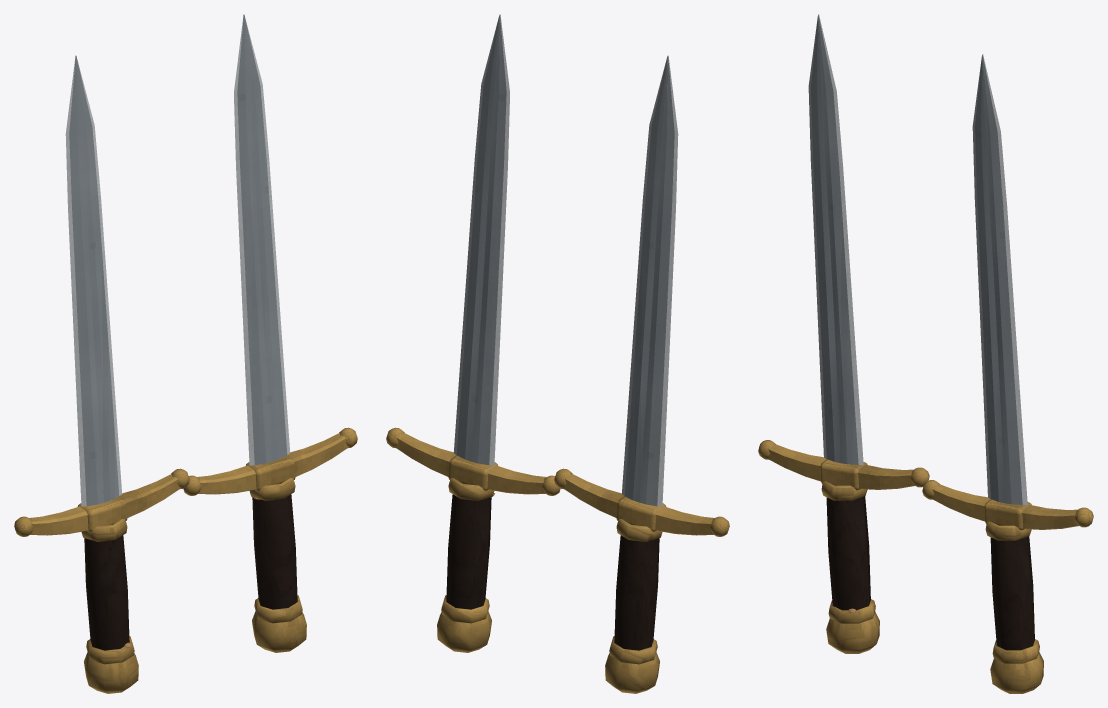
File: twin-shortblade.lod2.glb
3 renders of one model, left to right at view 1: azimuth 30°, elevation 25°; view 2: azimuth 150°, elevation 25°; view 3: azimuth 330°, elevation 25°, orthographic. The views are drawn at different scales.
Visible parts, largest first — view 1: steel / forged blade steel, brass / polished brass furniture, leather / oiled leather wrap, edge / honed bright bevel; view 2: steel / forged blade steel, brass / polished brass furniture, leather / oiled leather wrap, edge / honed bright bevel; view 3: steel / forged blade steel, brass / polished brass furniture, leather / oiled leather wrap, edge / honed bright bevel.
Boxes of the visible parts, x1,y1,x2,y2 form: steel / forged blade steel: [69, 14, 287, 506]; brass / polished brass furniture: [14, 427, 357, 693]; leather / oiled leather wrap: [84, 494, 297, 650]; edge / honed bright bevel: [65, 14, 290, 506]; steel / forged blade steel: [456, 14, 674, 506]; brass / polished brass furniture: [386, 427, 729, 693]; leather / oiled leather wrap: [446, 494, 659, 650]; edge / honed bright bevel: [453, 14, 678, 506]; steel / forged blade steel: [811, 14, 1022, 504]; brass / polished brass furniture: [758, 440, 1093, 693]; leather / oiled leather wrap: [826, 496, 1034, 650]; edge / honed bright bevel: [808, 14, 1027, 504].
Size of the model in its own units: 0.2846 by 0.5099 by 0.0412.
5 materials, 4 textured.
